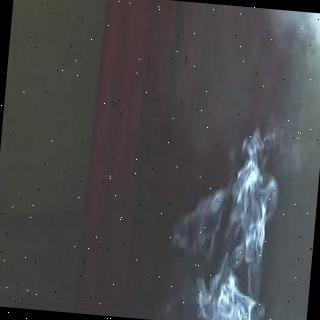smoke: (158, 139, 306, 320), (305, 13, 320, 191)
